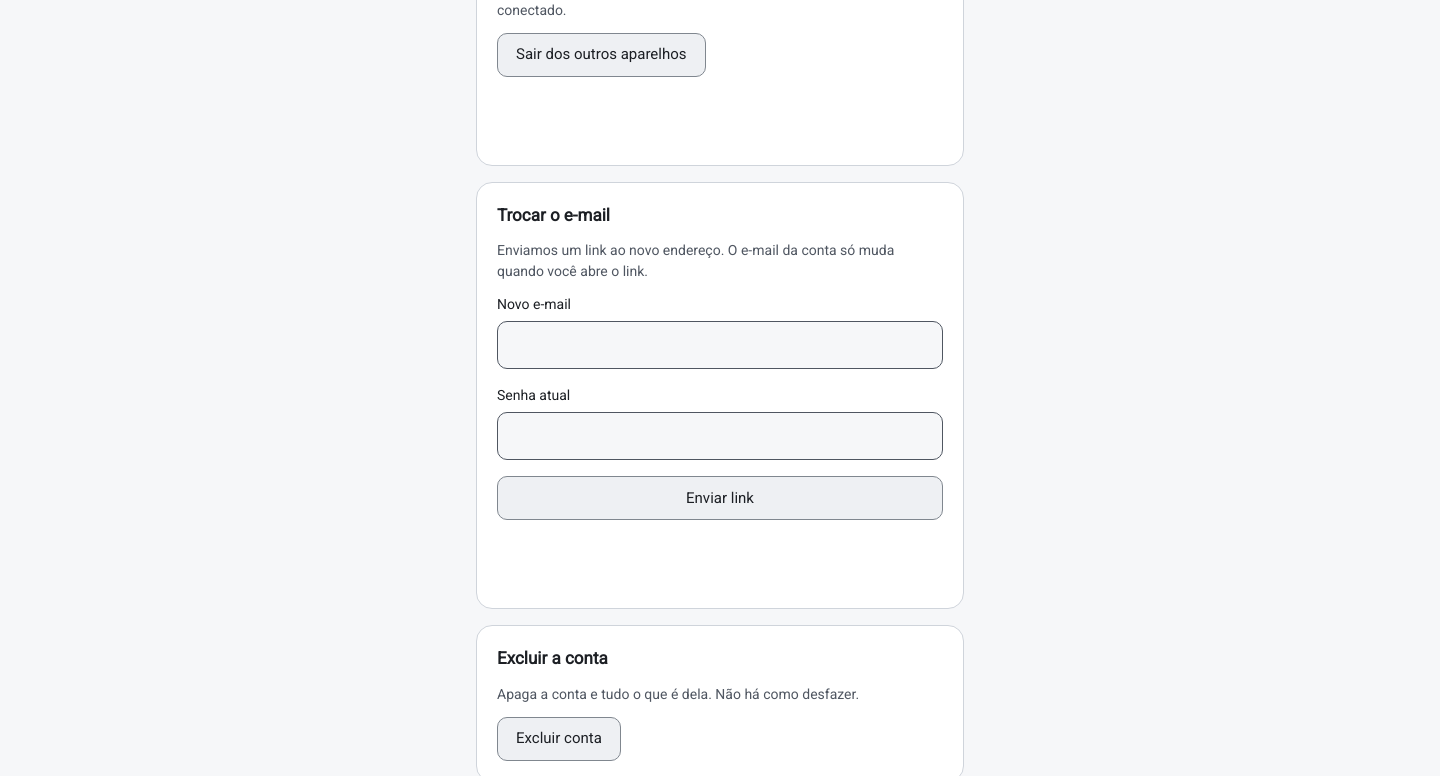
AccountPage › keeps everything when the password is wrong and Esc cancels
(page scrolled)
Click the button "Excluir conta" at (559, 738), box [497,716,621,760]
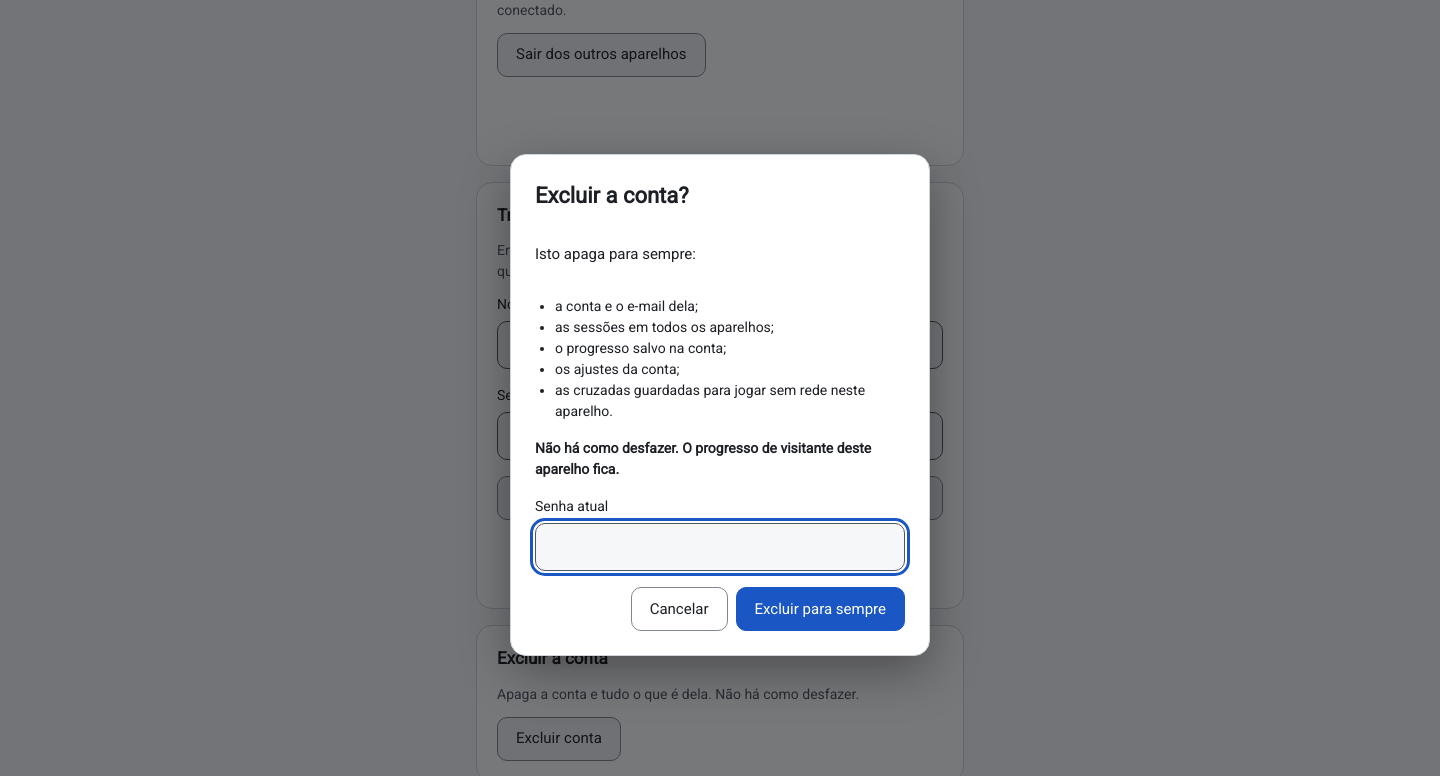
Type "errada-errada" into the password field labelled "Senha atual" at (720, 547), box [535,523,905,571]
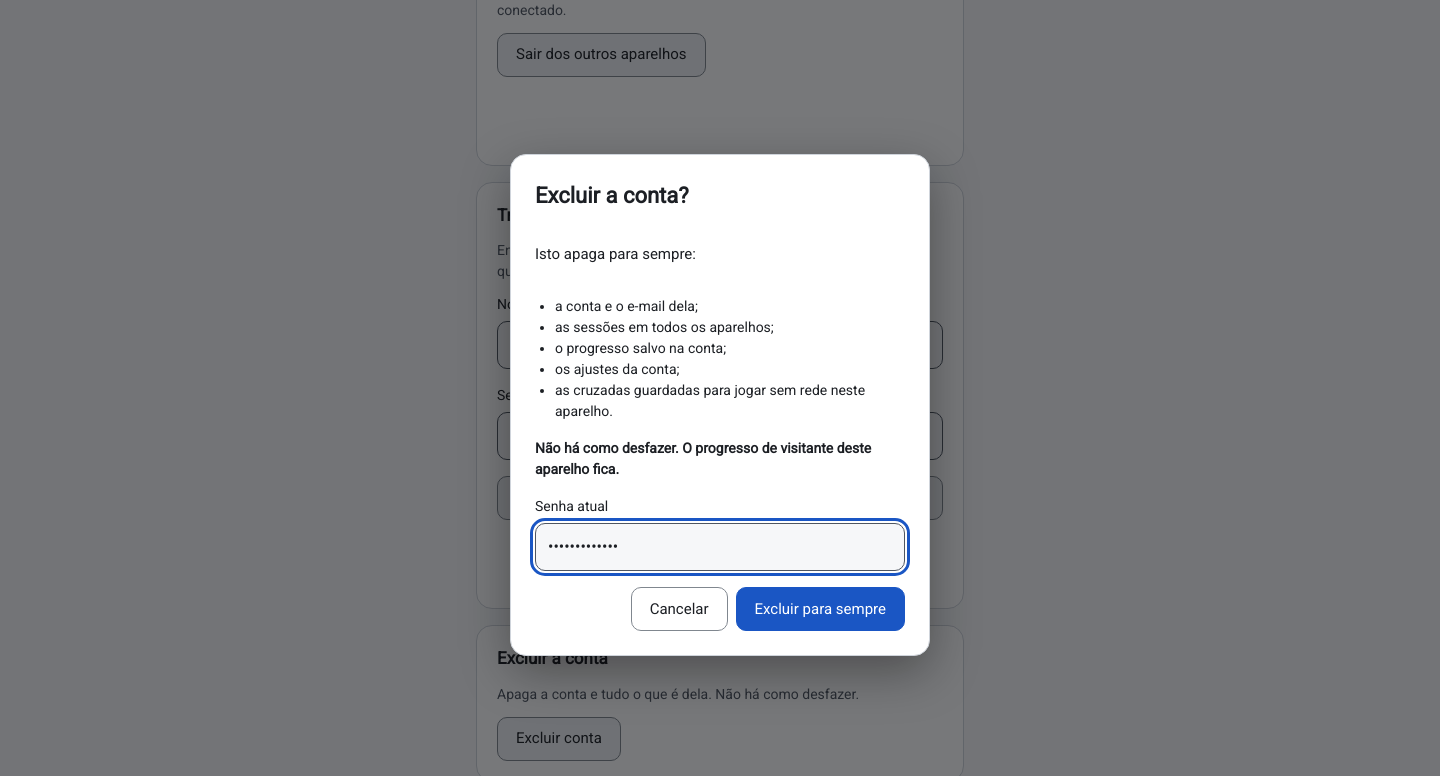
Click the button "Excluir para sempre" at (820, 609), box [736,587,905,631]
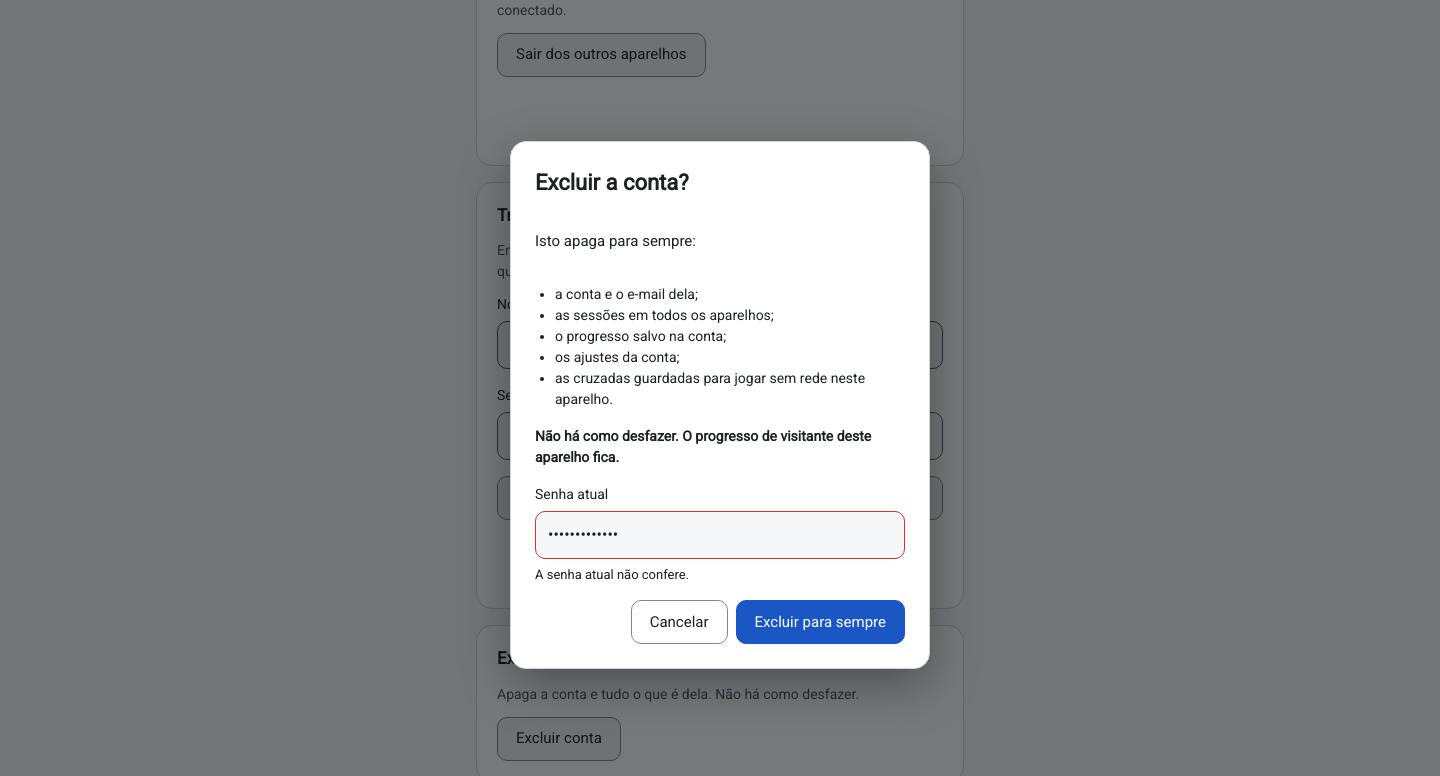
Expected: the text "A senha atual não confere." is shown, [535,566,689,582]
Press Escape
(page scrolled)
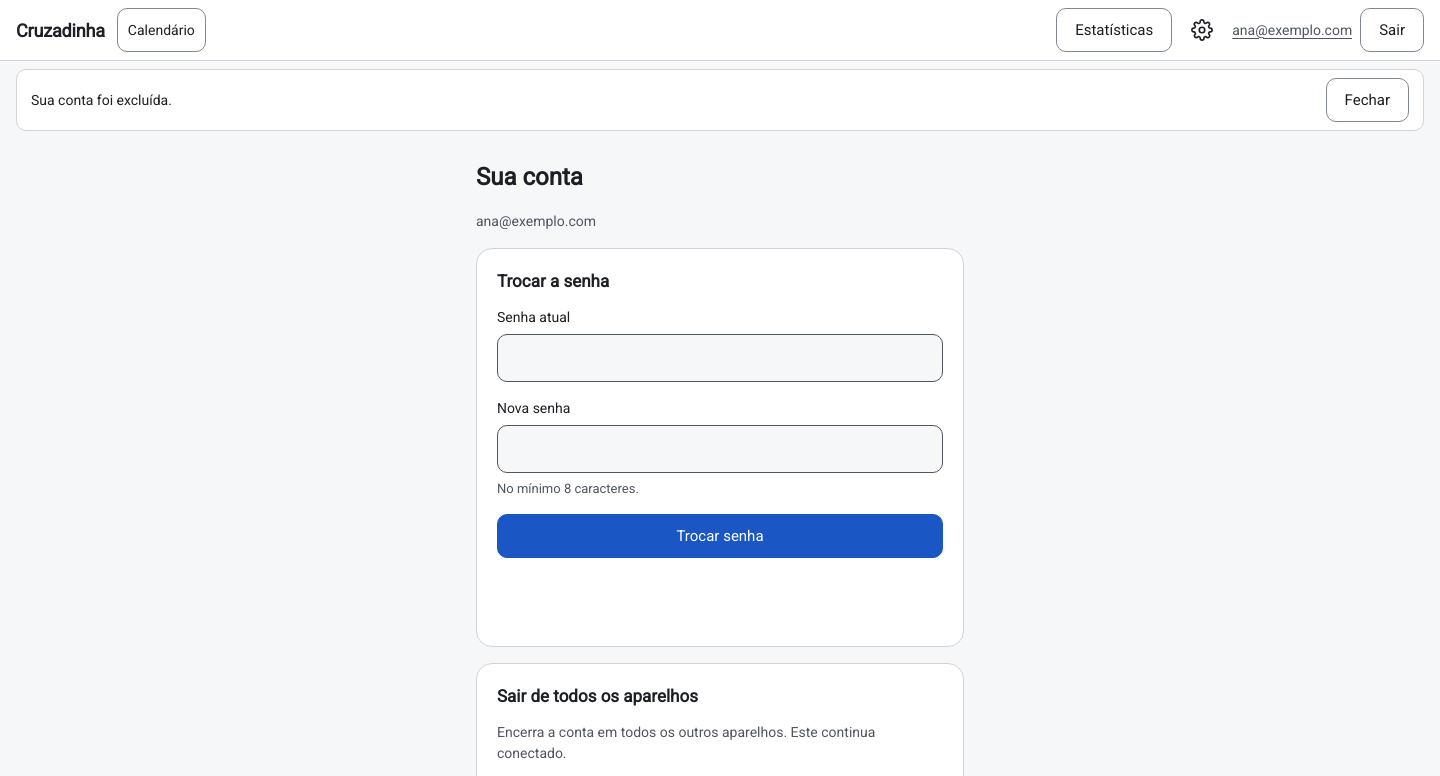
Expected: the heading "Sua conta" is shown, [476,163,583,191]
Expected: the dialog is gone
